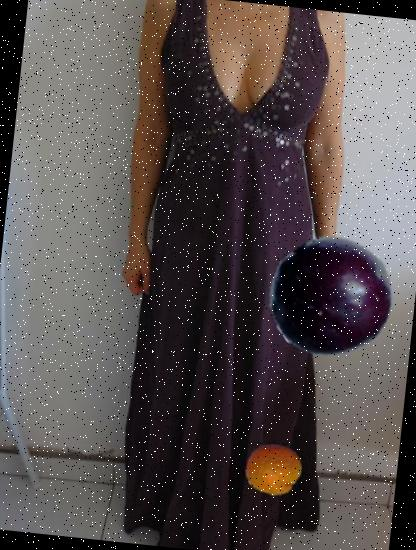Mandarine: (242, 439, 304, 501)
Plum: (262, 229, 400, 366)
